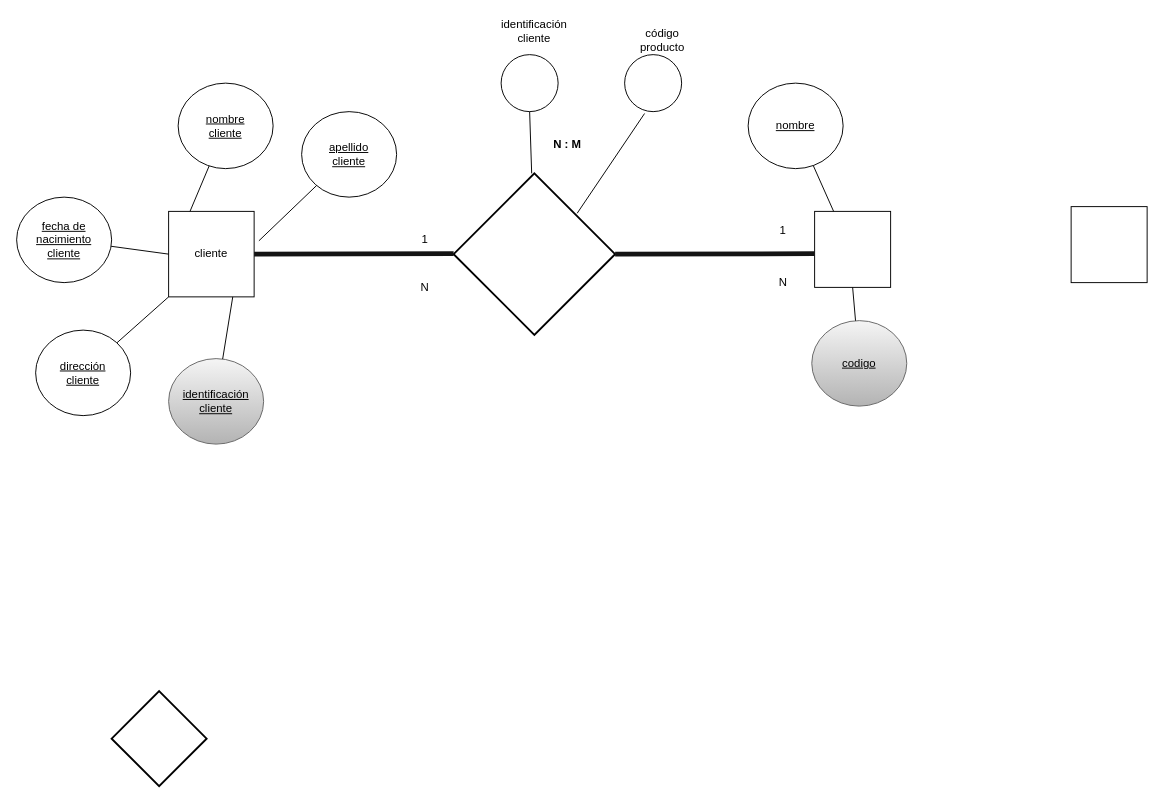
This 1164x803 diagram has some shape labels left out. The centre of each missing label's shape, as x and y in pixels:
compra: [534,253]
producto: [852,248]
proveedor: [1108,244]
